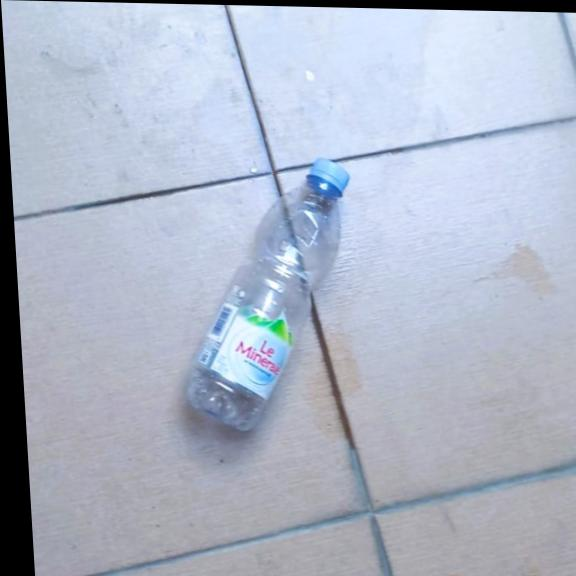Plastik: (169, 154, 365, 434)
